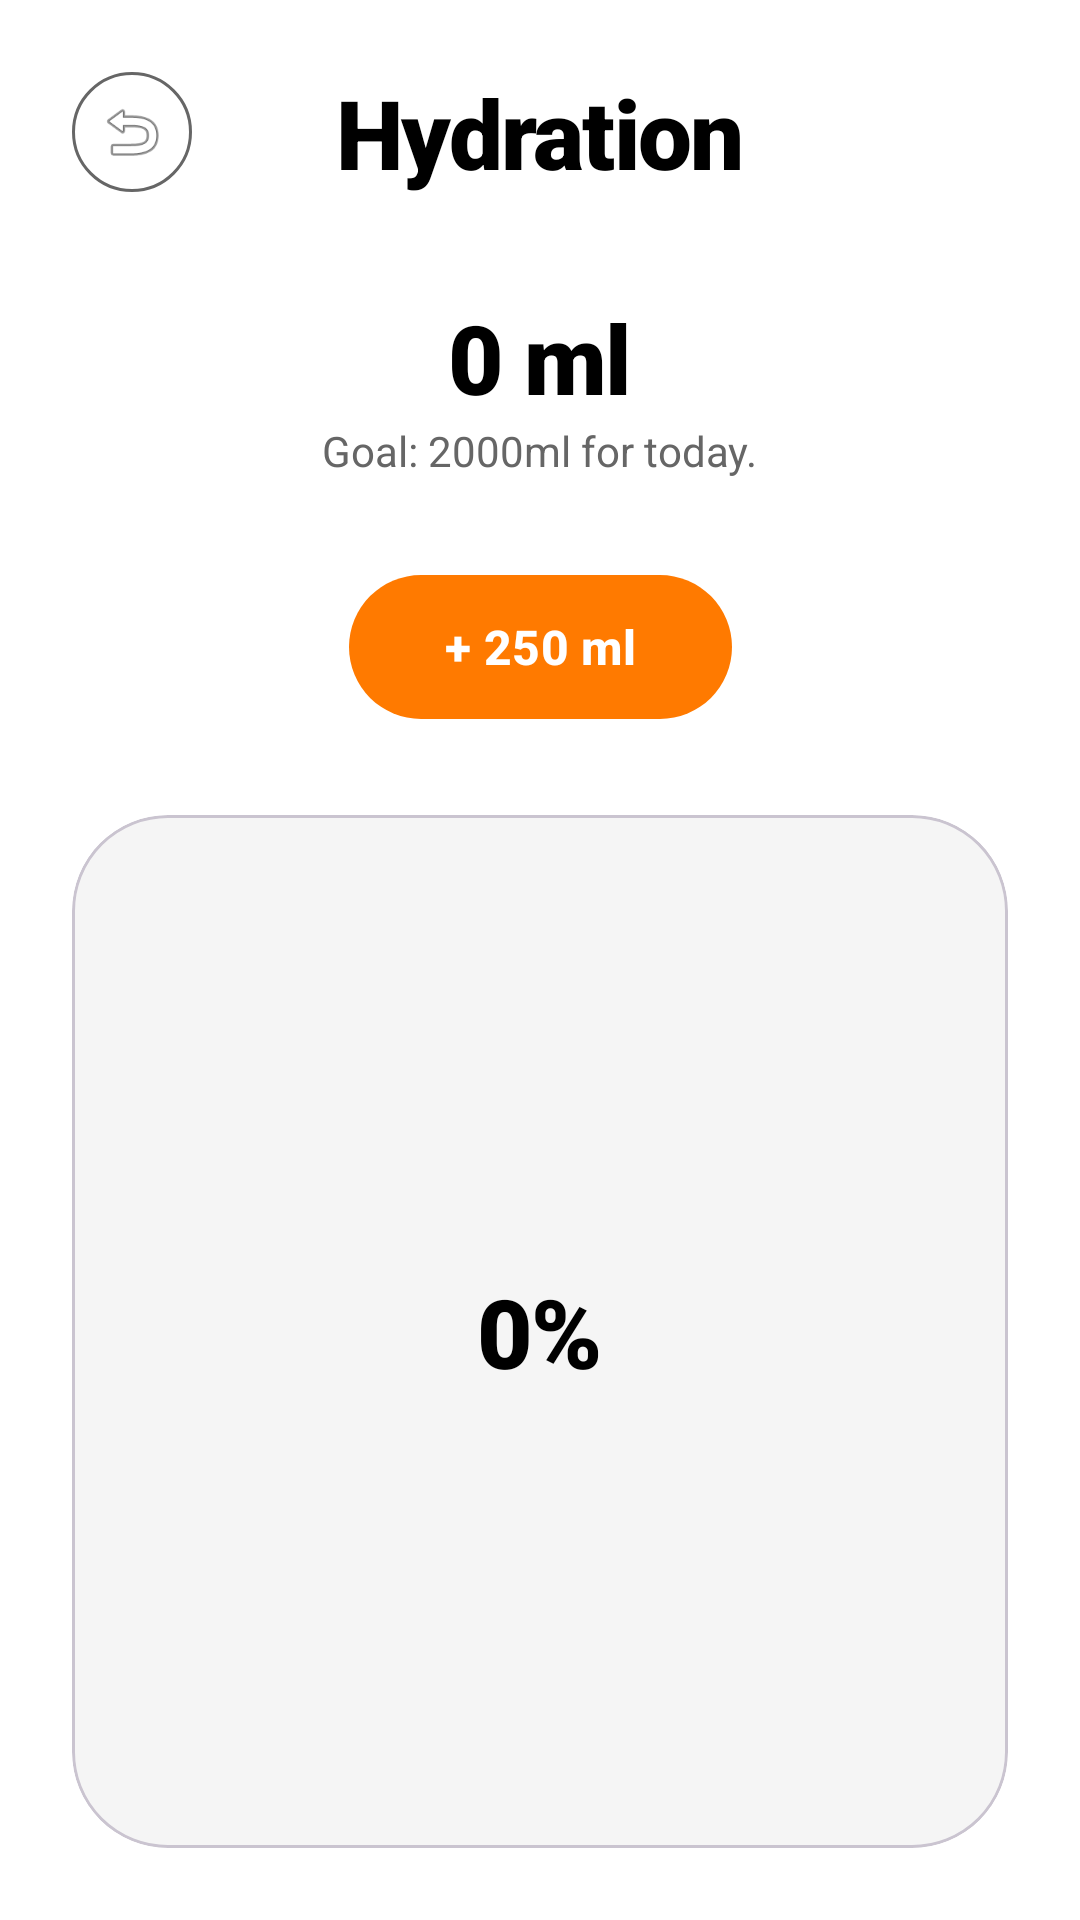

Where icons sit on this 1080*1920 app screen, as (left=x1, top=y1, right=x2, bottom=y2):
revert: (left=72, top=72, right=192, bottom=192)
